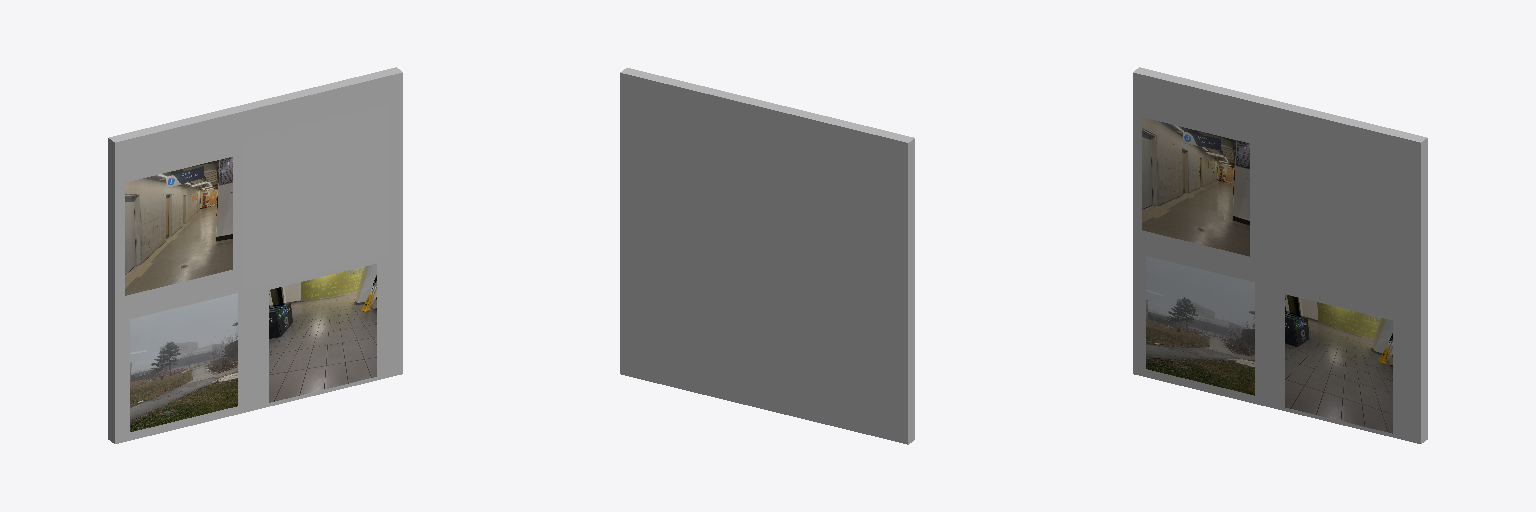
3 renders of one model, left to right at view 1: azimuth 30°, elevation 25°; view 2: azimuth 150°, elevation 25°; view 3: azimuth 330°, elevation 25°, orthographic.
Visible parts, largest first — view 1: Cube, Plane, Plane.002, Plane.003, Plane.004; view 2: Cube; view 3: Cube, Plane, Plane.003, Plane.002, Plane.004.
Boxes of the visible parts, box(x1,y1,x2,y2) form: Cube: box(108, 67, 402, 443); Plane: box(244, 104, 388, 289); Plane.002: box(125, 157, 232, 295); Plane.003: box(130, 293, 237, 431); Plane.004: box(269, 264, 376, 402); Cube: box(620, 68, 914, 444); Cube: box(1133, 67, 1427, 443); Plane: box(1261, 132, 1405, 317); Plane.003: box(1146, 256, 1254, 395); Plane.002: box(1142, 117, 1249, 256); Plane.004: box(1285, 294, 1392, 433).
Bounding box in the file's own units: 1.54 × 1.54 × 0.0686.
Materials: 5 (3 with a texture image).